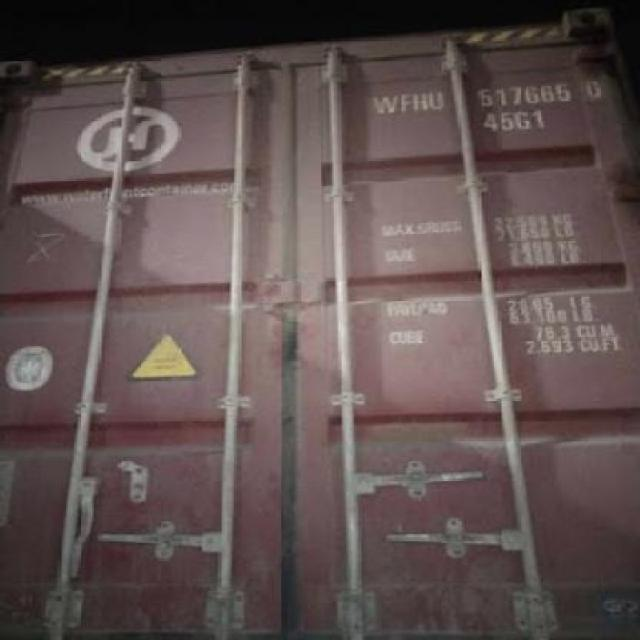ISO: (478, 112, 544, 134)
container_number: (371, 72, 608, 116)
